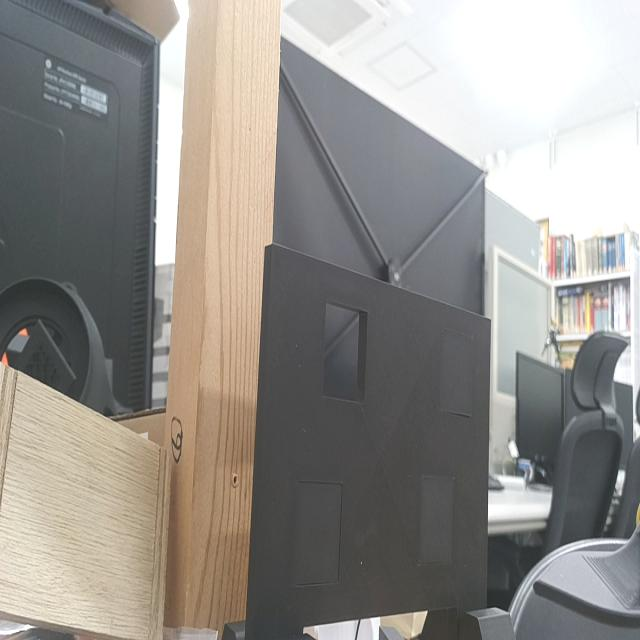Obstacle: (324, 301, 368, 391)
Wall: (259, 246, 491, 625)
